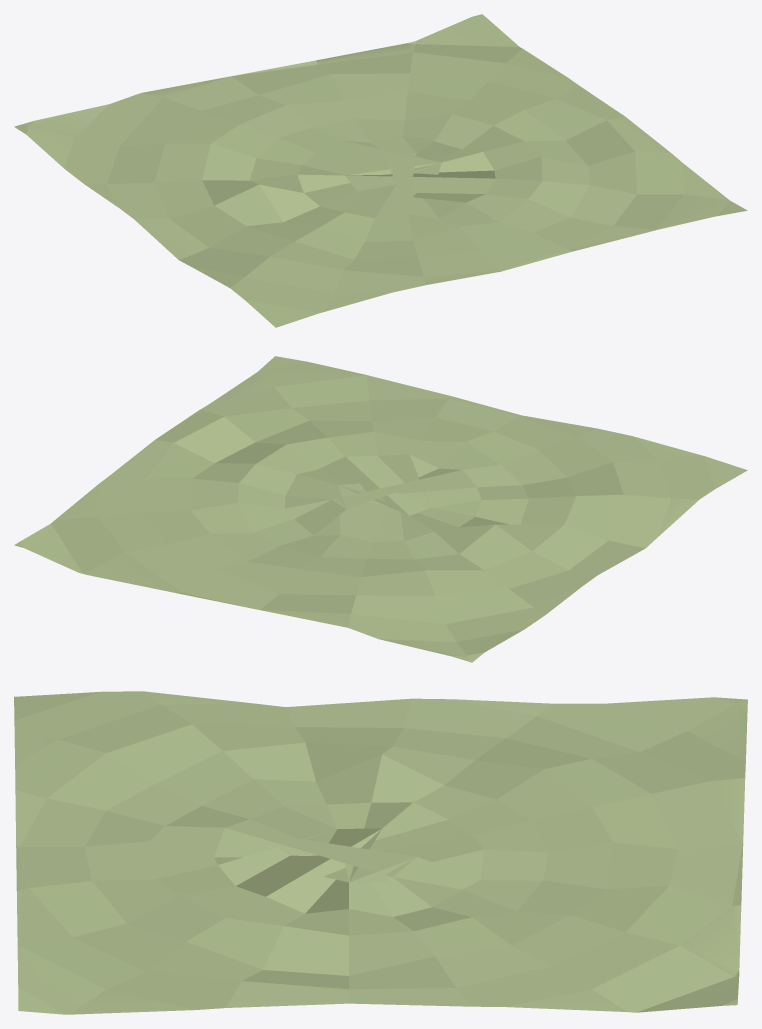
The model's file is LowPolyGround2.fbx.
3 renders of one model, top to bottom at view 1: azimuth 30°, elevation 25°; view 2: azimuth 150°, elevation 25°; view 3: azimuth 270°, elevation 25°, orthographic. The views are drawn at different scales.
Visible parts, largest first — view 1: SueloVerde; view 2: SueloVerde; view 3: SueloVerde.
Part boxes in pixels (box(x1,y1,x2,y2)): SueloVerde: box(14, 14, 747, 327); SueloVerde: box(14, 356, 747, 662); SueloVerde: box(14, 691, 747, 1014).
Size of the model in its own units: 1279 by 61.75 by 1261.
